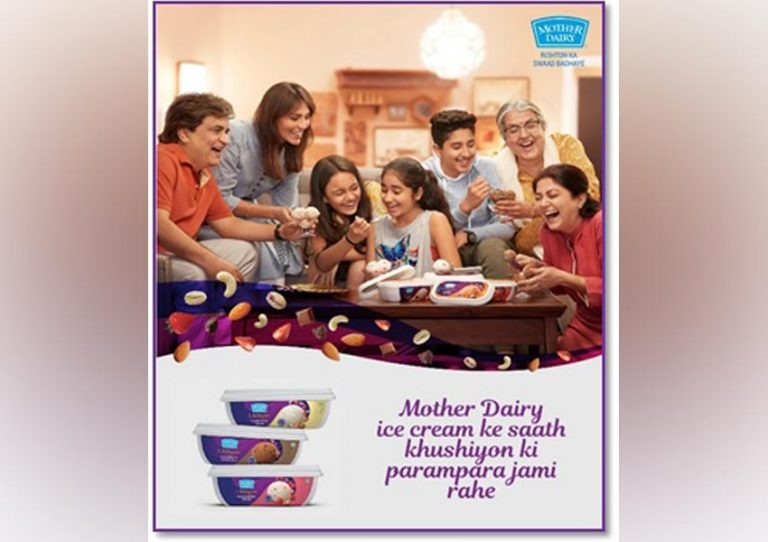Mother_Dairy: (526, 9, 598, 70)
